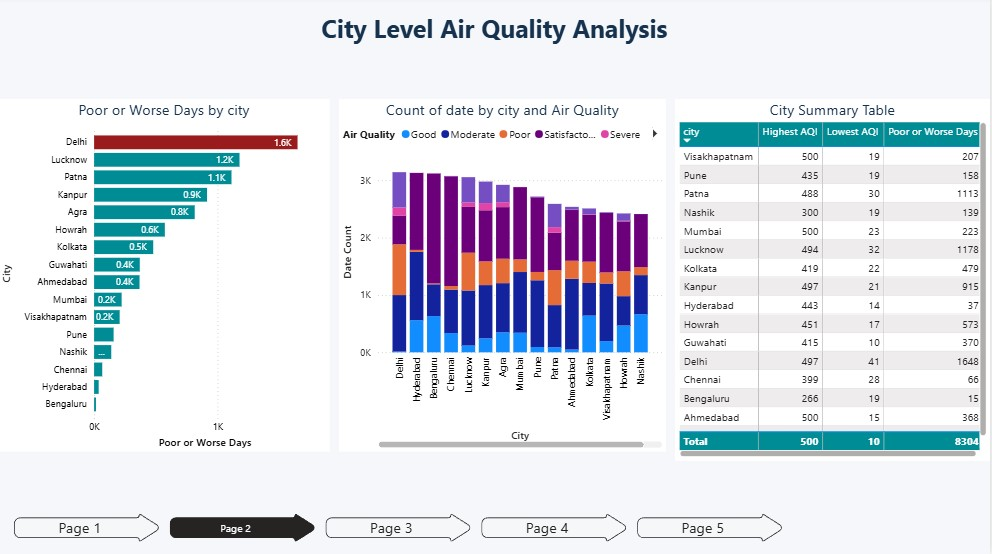

Layout of this report page (visuals, bound fields, positions):
{"tool":"powerbi","page":{"name":"Page 2","canvas":[1280,720],"ordinal":1},"visuals":[{"type":"textbox","box":[337.6,13.4,604.7,70.6],"z":0},{"type":"clusteredBarChart","fields":{"Category":["finalized_data.city"],"Y":["finalized_data.Poor or Worse Days"]},"box":[0,131,428.3,455.2],"z":1000},{"type":"columnChart","fields":{"Category":["finalized_data.city"],"Y":["CountNonNull(finalized_data.date)"],"Series":["finalized_data.Air Quality"]},"box":[440.1,131,421.6,455.2],"z":2000},{"type":"tableEx","title":"City Summary Table","fields":{"Values":["finalized_data.city","finalized_data.Highest AQI","finalized_data.Lowest AQI","finalized_data.Poor or Worse Days"]},"box":[873.5,131,406.5,467],"z":3000},{"type":"pageNavigator","box":[20.2,665.2,999.5,38.6],"z":5000}]}

Visuals, with their boxes in screenshot pixels (x1, y1, x2, y2), scaled from the page's 1280x720 canvas onto the 992x554 screenshot:
textbox: l=262, t=10, r=730, b=65
clusteredBarChart - finalized_data.city x finalized_data.Poor or Worse Days: l=0, t=101, r=332, b=451
columnChart - finalized_data.city x CountNonNull(finalized_data.date): l=341, t=101, r=668, b=451
"City Summary Table" tableEx: l=677, t=101, r=991, b=460
pageNavigator: l=16, t=512, r=790, b=542
